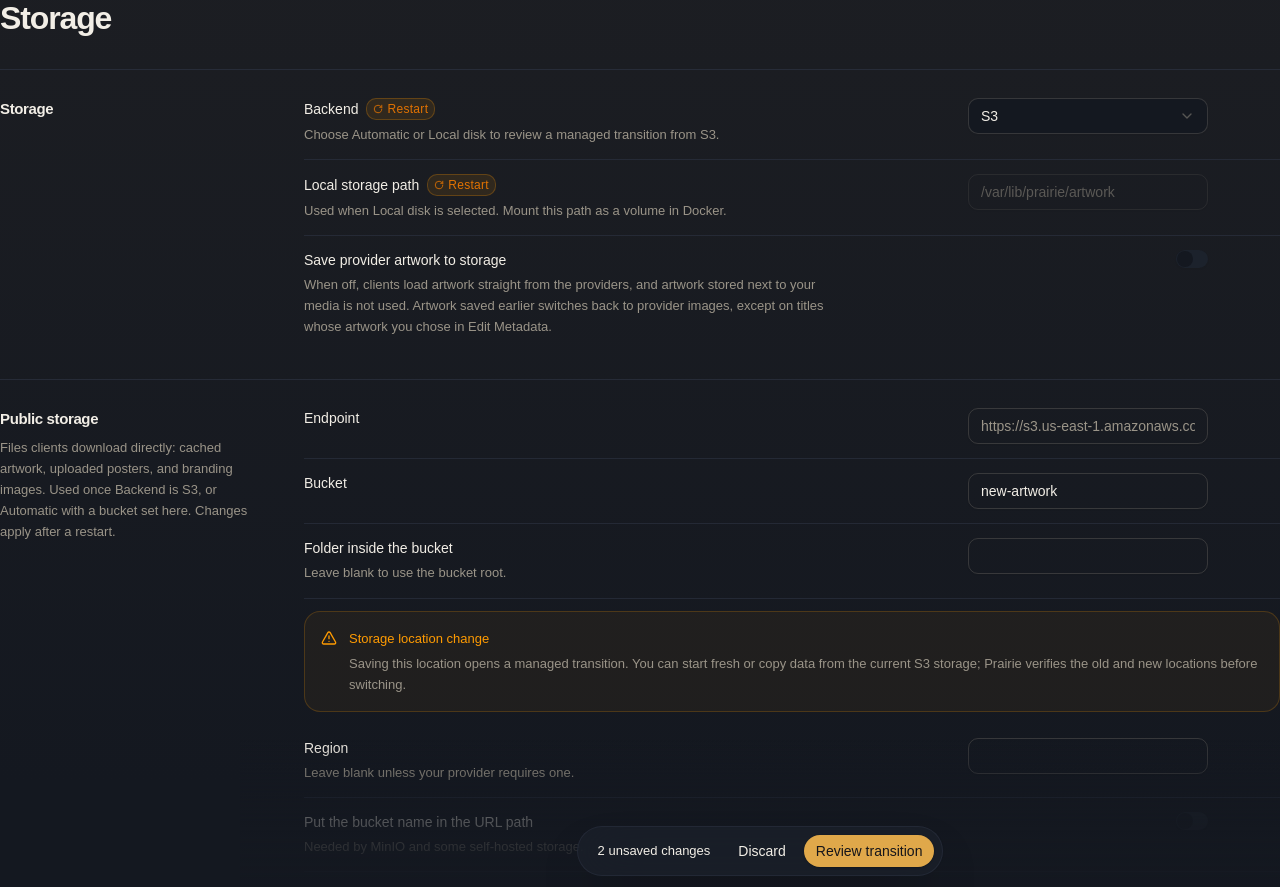
StorageSettings › saves unrelated edits before opening an S3 location transition
This screenshot has width=1280, height=887.
Click the button "Review transition". click: (869, 851)
box: [804,835,934,867]
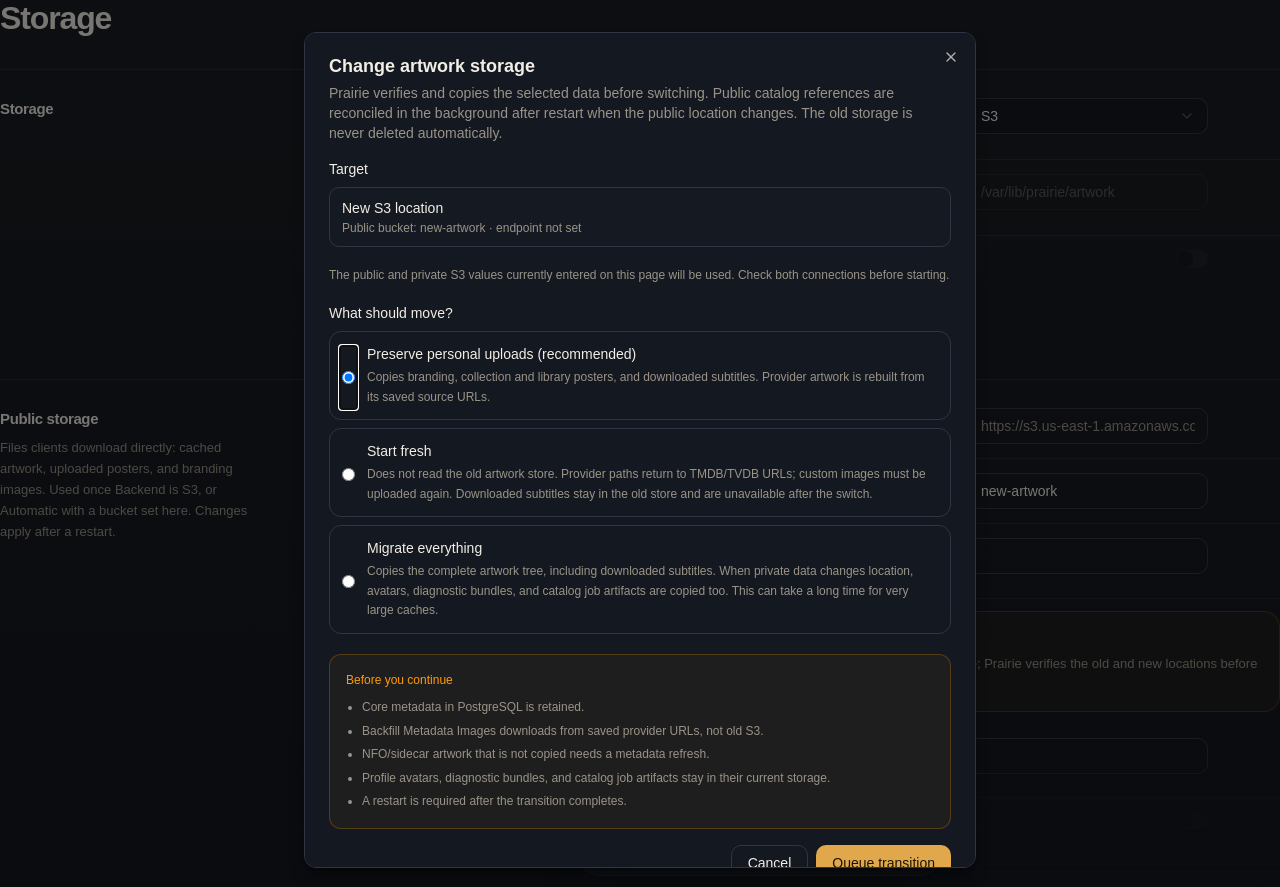
Expected: the dialog "Change artwork storage" is shown, [304,32,976,868]
